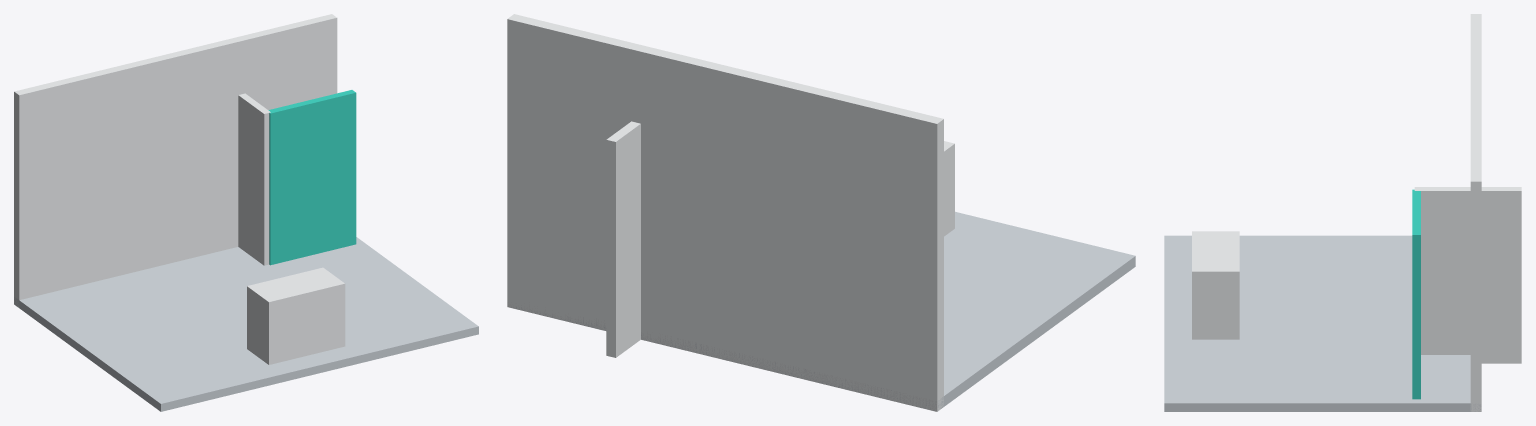
The picture shows the model from 3 angles, left to right: view 1: azimuth 30°, elevation 25°; view 2: azimuth 150°, elevation 25°; view 3: azimuth 270°, elevation 25°; orthographic projection. The views are drawn at different scales.
Visible parts, largest first — view 1: Exhibition Booth Concept; view 2: Exhibition Booth Concept; view 3: Exhibition Booth Concept.
Boxes of the visible parts, bbox=[...] form: Exhibition Booth Concept: bbox=[14, 14, 478, 411]; Exhibition Booth Concept: bbox=[507, 14, 1135, 411]; Exhibition Booth Concept: bbox=[1164, 14, 1521, 411].
Bounding box in the file's own units: 5 × 3.2 × 4.51.
